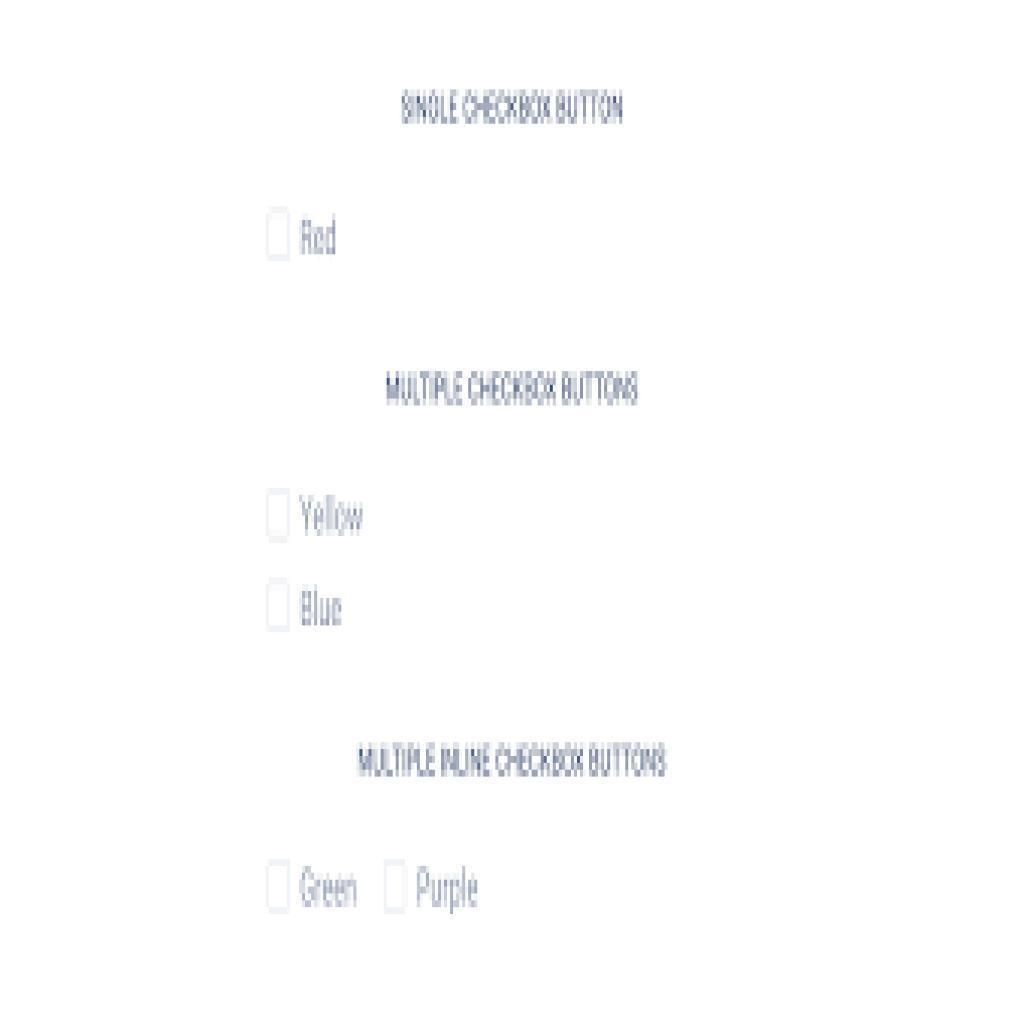checkbox: (259, 200, 295, 271), (261, 851, 295, 917), (264, 482, 295, 552), (261, 568, 292, 636), (382, 853, 411, 924)
